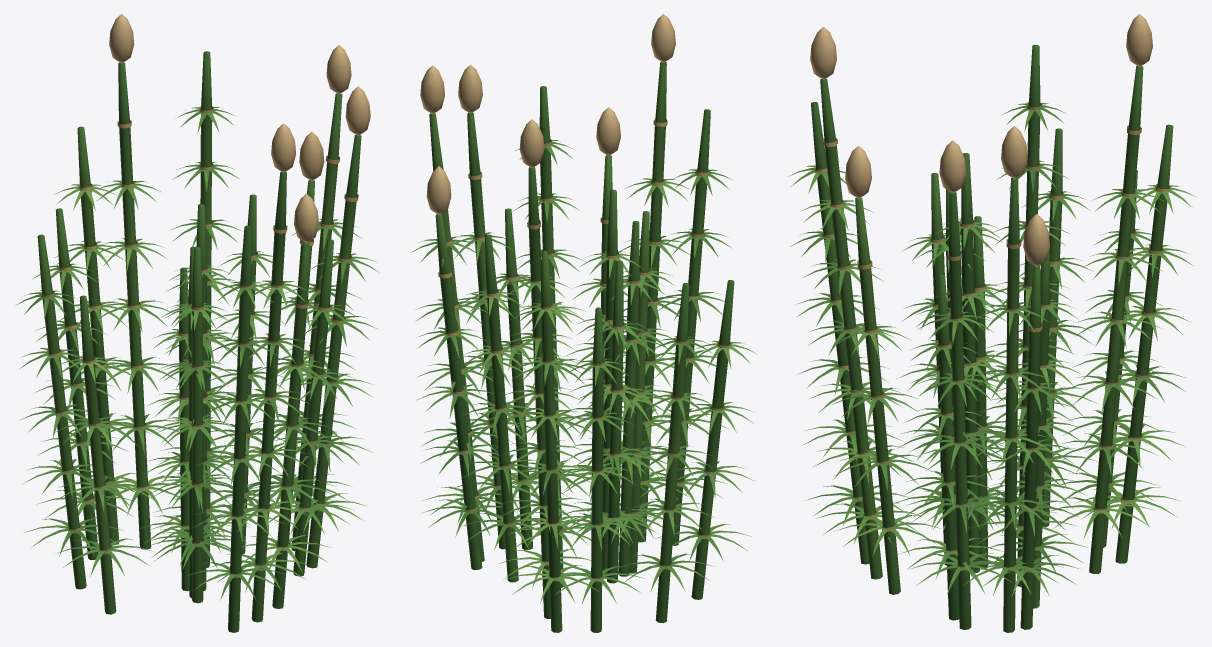
The model's file is PLN_Horsetails_Large.fbx.
3 views of the same model, side by side, from view 1: azimuth 30°, elevation 25°; view 2: azimuth 150°, elevation 25°; view 3: azimuth 270°, elevation 25° (orthographic). The views are drawn at different scales.
Visible parts, largest first — view 1: PLN_Horsetails_Large; view 2: PLN_Horsetails_Large; view 3: PLN_Horsetails_Large.
Boxes of the visible parts, x1,y1,x2,y2 form: PLN_Horsetails_Large: (15, 14, 379, 632); PLN_Horsetails_Large: (411, 14, 757, 632); PLN_Horsetails_Large: (789, 14, 1196, 632).
Size of the model in its own units: 1.03 by 1.58 by 1.06.
